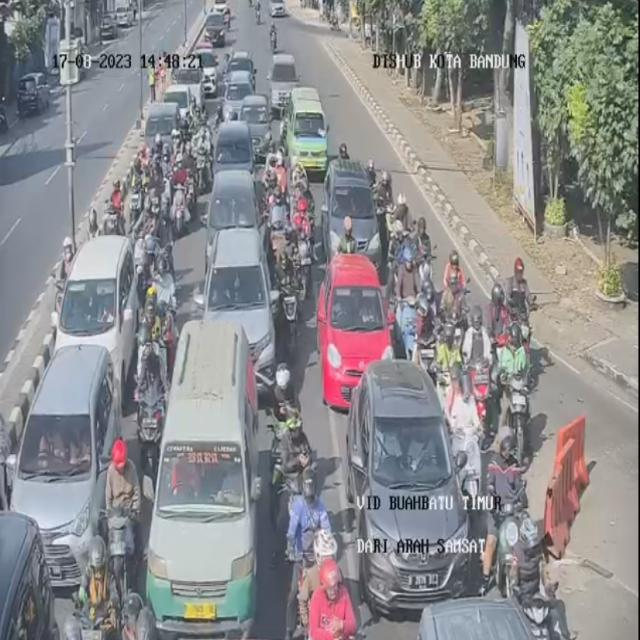bus: (205, 0, 249, 44)
cars: (142, 324, 254, 640), (353, 355, 474, 610), (14, 343, 125, 582), (51, 235, 138, 409), (204, 227, 286, 374), (322, 254, 394, 410), (326, 158, 383, 264), (417, 596, 549, 640), (202, 169, 258, 268), (282, 88, 327, 184), (213, 117, 260, 189), (147, 102, 185, 168), (239, 92, 275, 157), (267, 54, 298, 118), (162, 85, 195, 135), (223, 72, 252, 124), (232, 50, 259, 93), (198, 48, 222, 93), (212, 0, 232, 17), (269, 0, 286, 17)
motorcycle: (288, 464, 341, 632), (105, 438, 145, 640), (486, 440, 532, 606), (308, 546, 361, 638), (272, 411, 316, 518), (260, 362, 300, 473), (142, 287, 175, 406), (74, 556, 119, 640), (136, 343, 165, 473), (449, 381, 483, 486), (145, 240, 179, 340), (391, 253, 421, 349), (443, 245, 469, 355), (504, 252, 531, 344), (292, 181, 314, 285), (276, 231, 300, 326), (148, 199, 174, 285), (285, 186, 307, 286), (268, 184, 289, 282), (396, 216, 422, 282), (169, 163, 194, 231), (130, 159, 150, 239), (267, 150, 289, 220), (413, 216, 433, 288), (290, 175, 311, 242), (392, 191, 412, 259), (265, 168, 285, 235), (108, 178, 130, 236), (444, 247, 467, 301), (338, 219, 358, 264), (374, 170, 390, 219), (151, 55, 164, 97), (266, 18, 280, 56), (251, 0, 264, 26)
